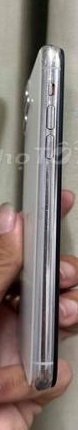scratch: (43, 91, 61, 207), (40, 244, 62, 316), (39, 40, 68, 92)
